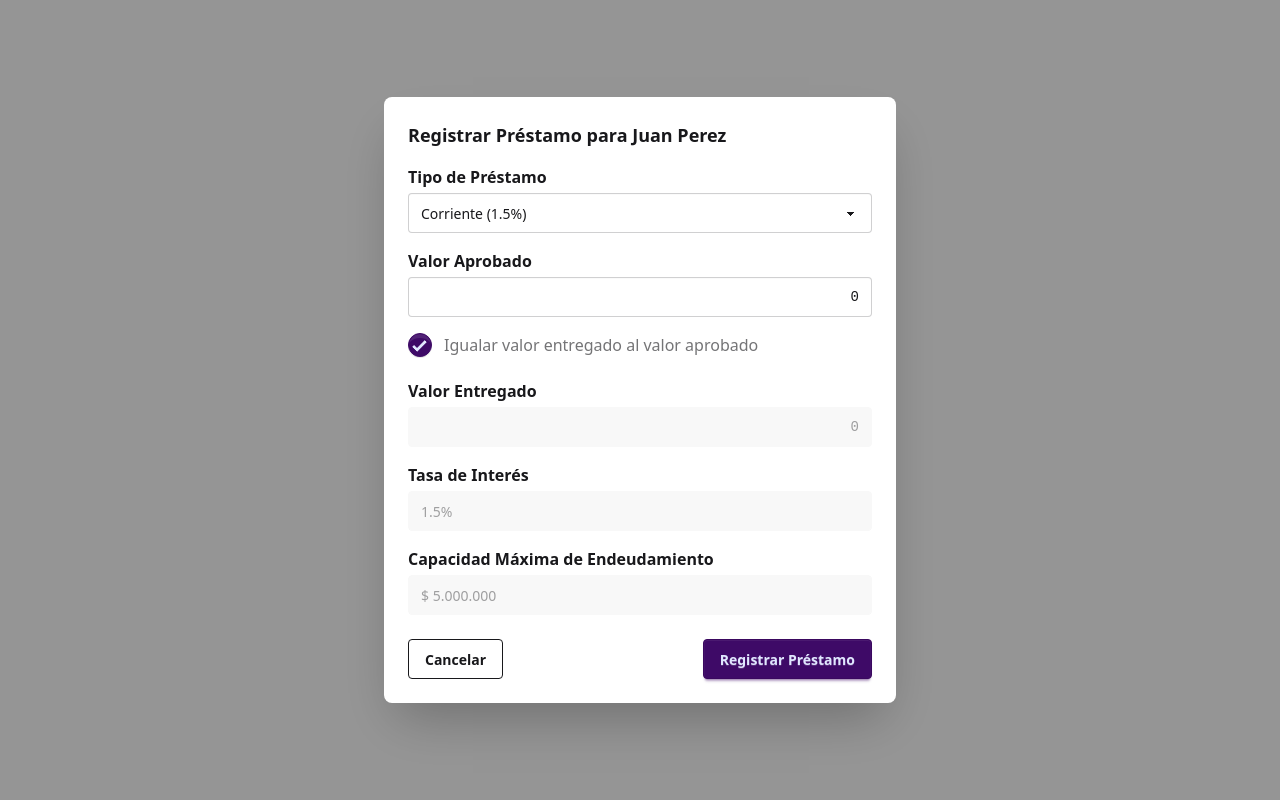
Scenario: LoanModal.vue › updates interest rate to 2% when agil is selected
The image size is (1280, 800).
Select "Ágil (2%)" in the dropdown at [640, 213], box [408,193,872,233]
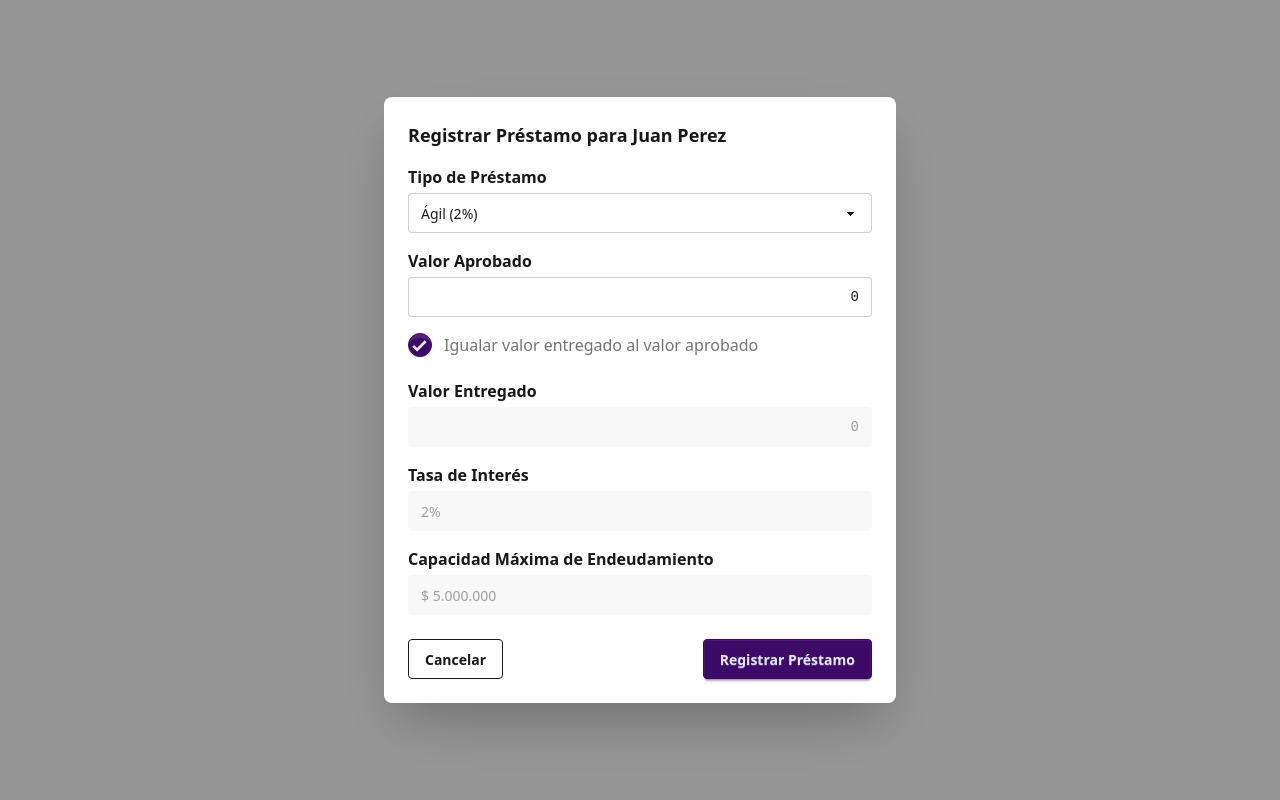
Expected: the field below "Tasa de Interés" holds "2%", [408,491,872,531]
